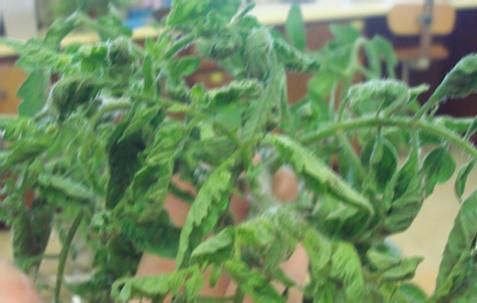Tomato leaf mosaic virus: (258, 128, 369, 212), (177, 147, 244, 267), (127, 138, 173, 225), (221, 260, 296, 303), (417, 145, 459, 198), (268, 39, 321, 76)
